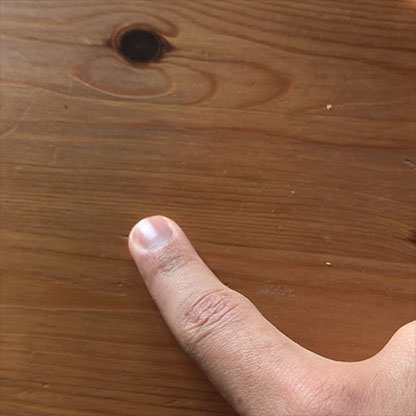fingertip: (120, 204, 204, 275)
